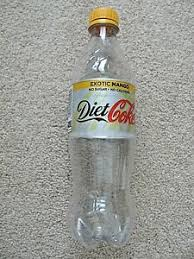HDPE Cap: (88, 7, 118, 28)
PET Bottle: (67, 6, 137, 250)
PVC Label: (67, 78, 137, 138)
